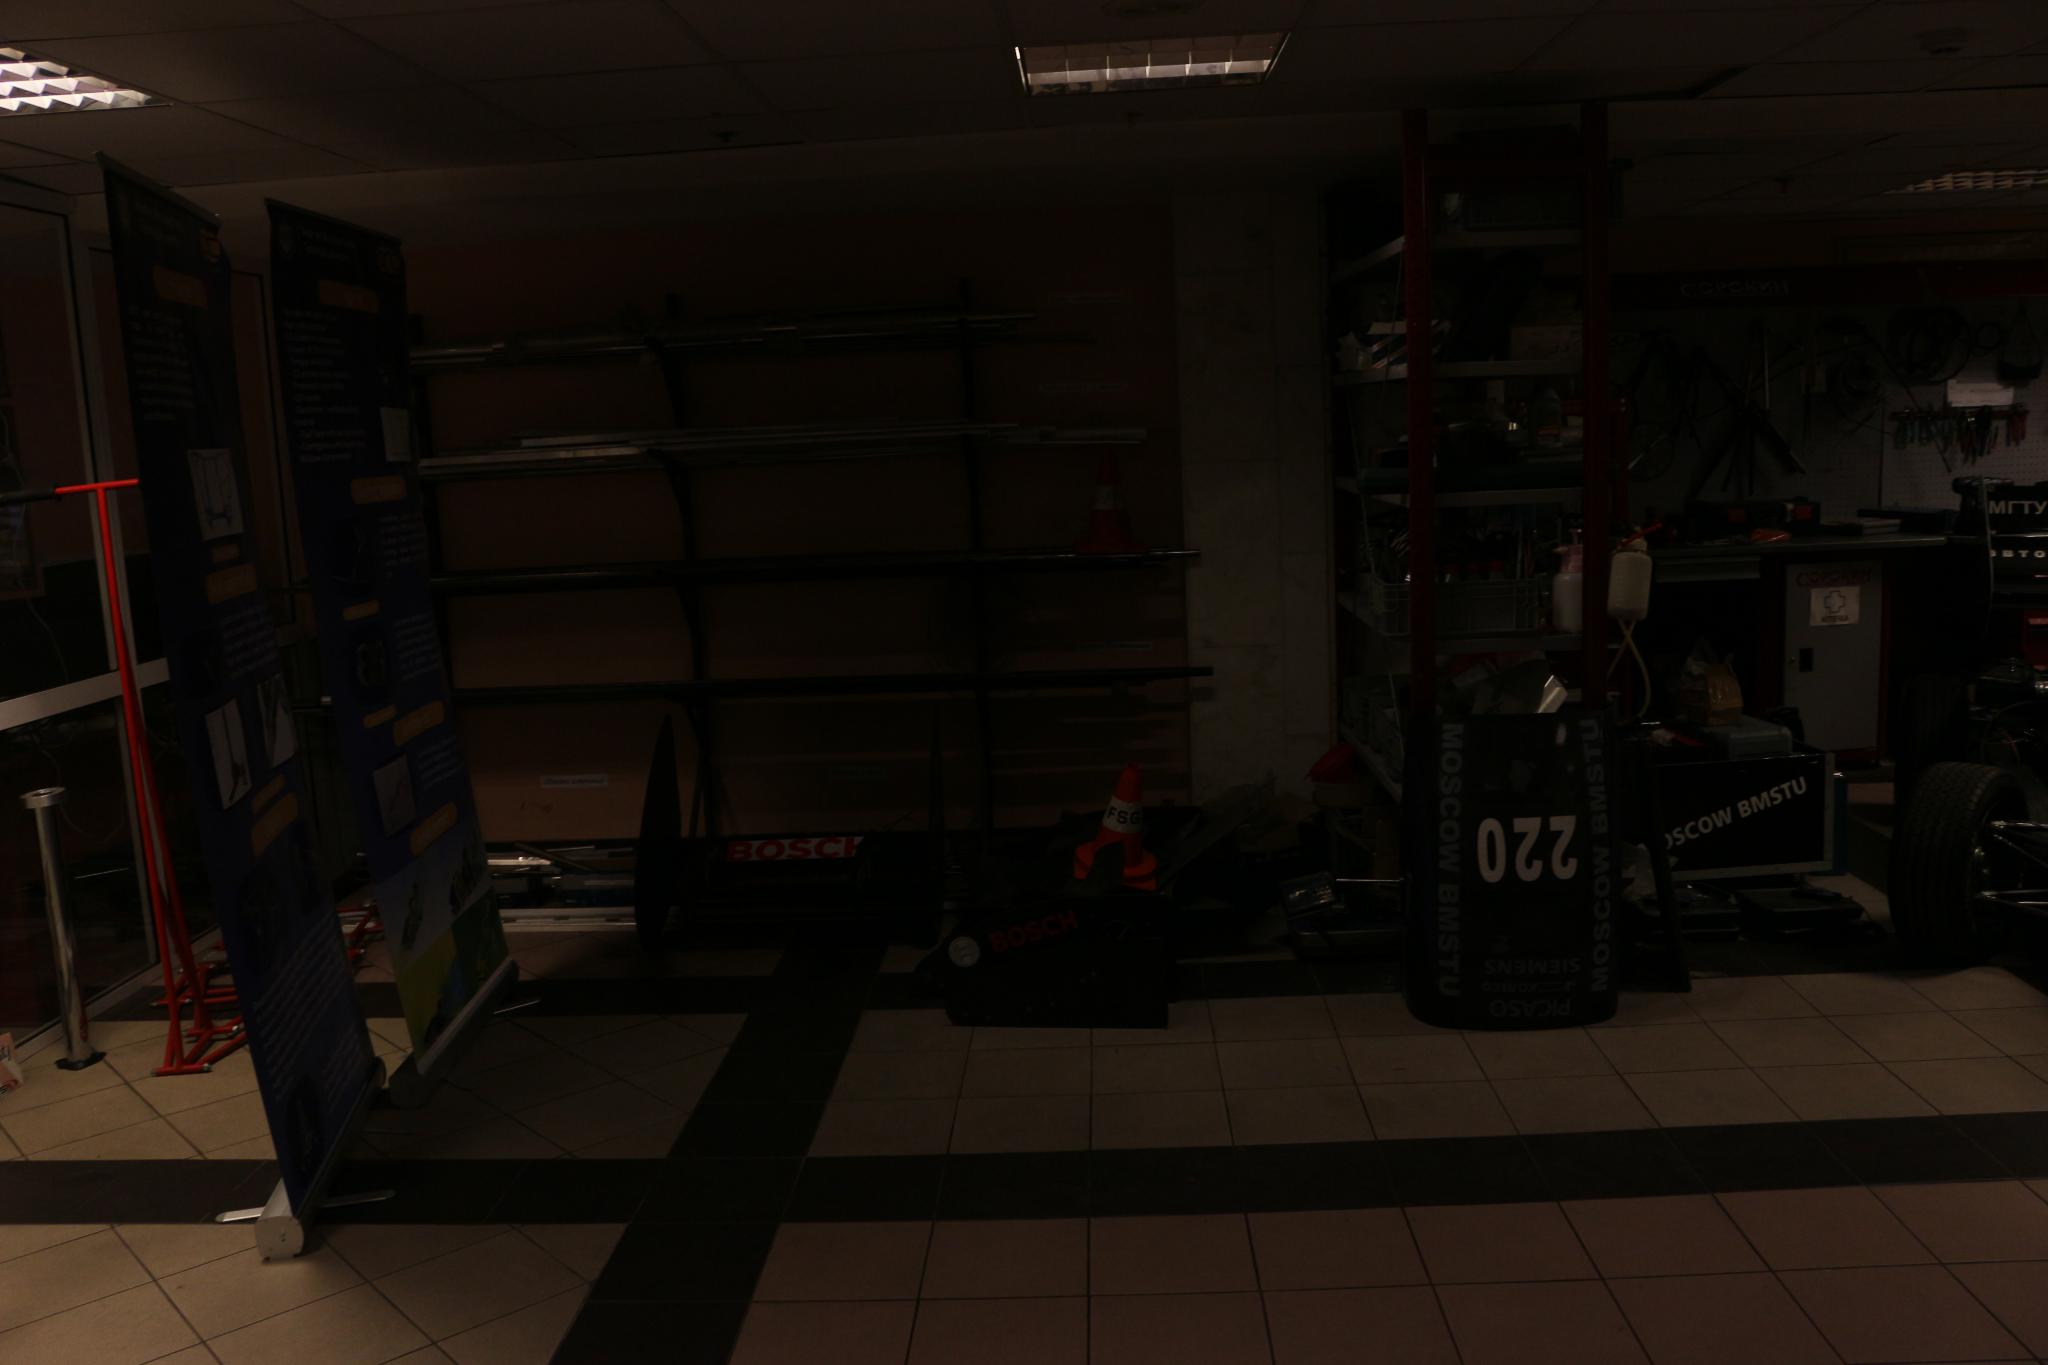Orange_Cone: (1061, 751, 1162, 890)
